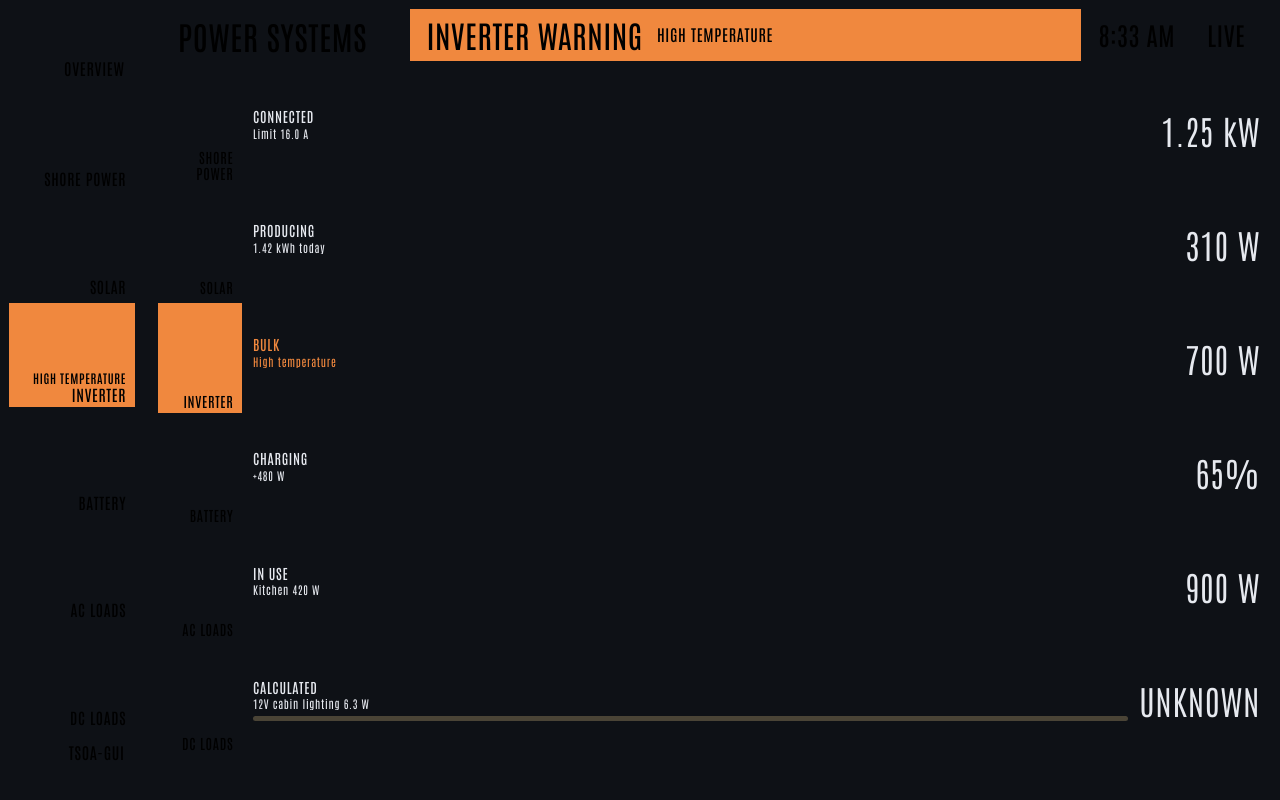
FofSkin › on a phone held upright › opens a part's page from its row
The width and height of the screenshot is (1280, 800).
Step 1. Click the link "Battery Charging +480 W 65%" → (212, 515), box [158,417,1260,527]
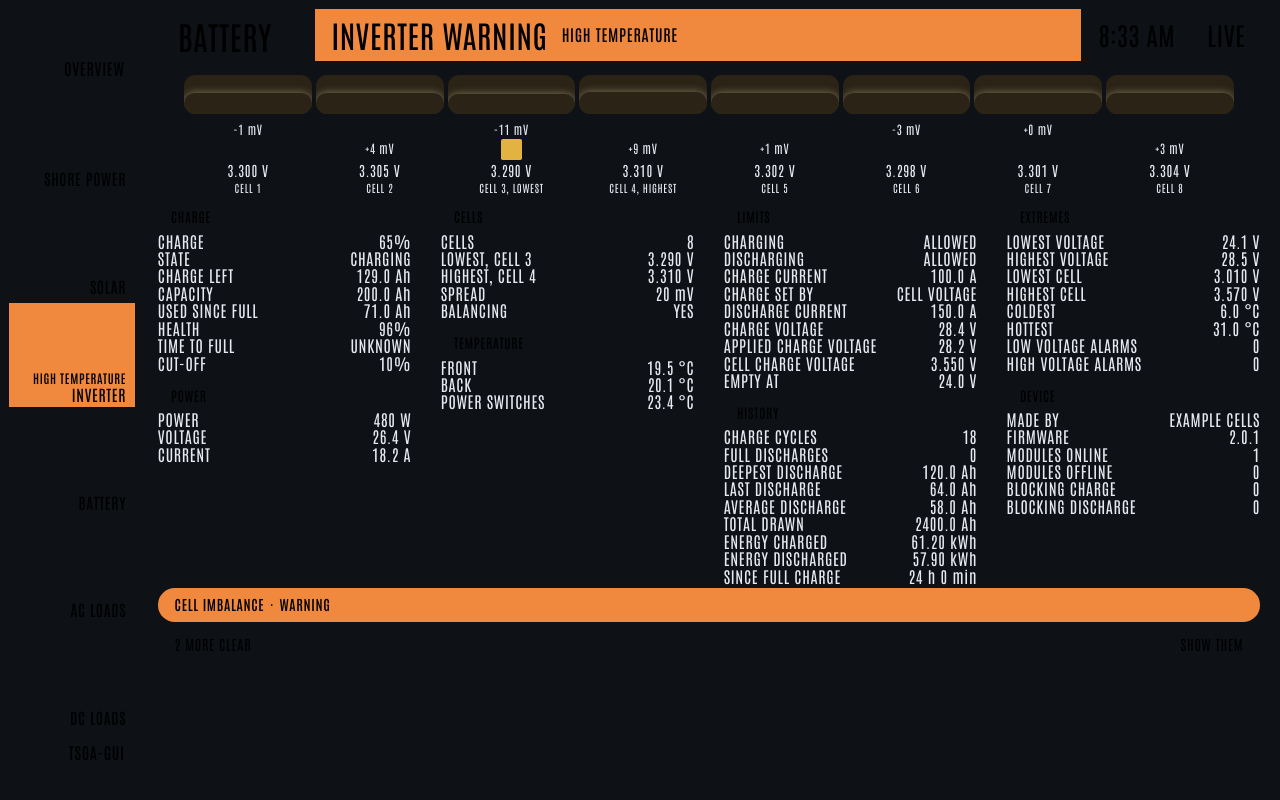
Now the list named "Cells" is shown, box [158,75,1260,194]
